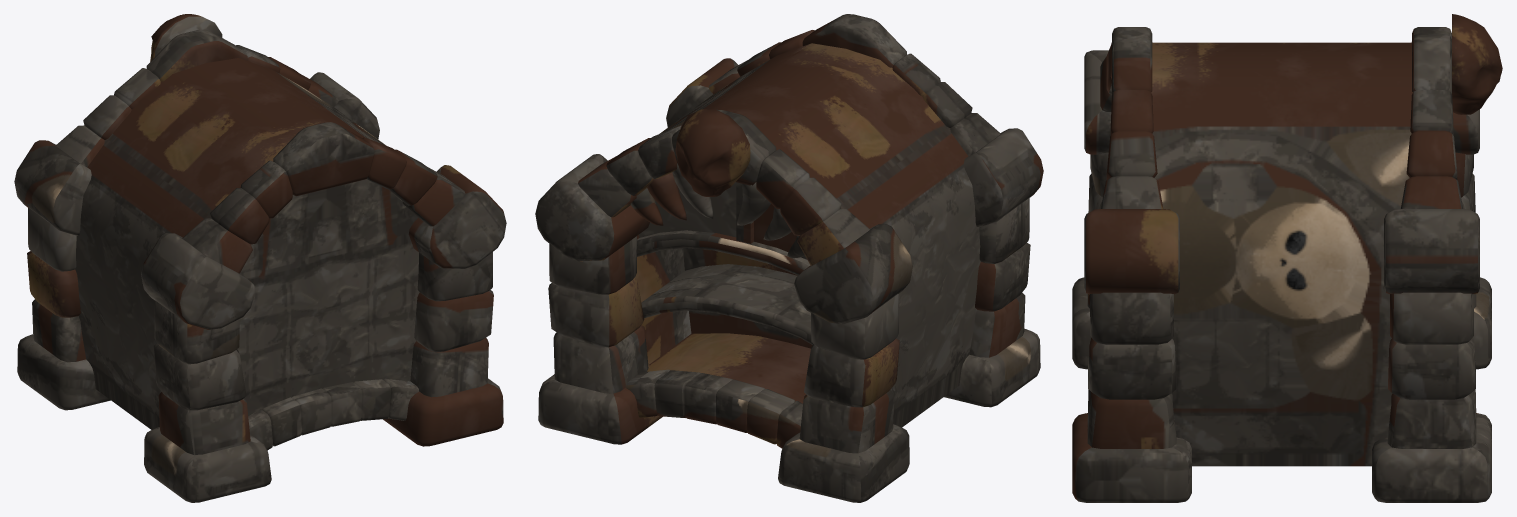
Rendered from SM_PRP_SkullBookShelf.fbx.
The picture shows the model from 3 angles, left to right: view 1: azimuth 30°, elevation 25°; view 2: azimuth 150°, elevation 25°; view 3: azimuth 270°, elevation 25°; orthographic projection. The views are drawn at different scales.
Visible parts, largest first — view 1: m_Bookshelf_low, m_Sides_low; view 2: m_Bookshelf_low, m_Sides_low; view 3: m_Sides_low, m_Bookshelf_low.
Boxes of the visible parts, x1,y1,x2,y2 form: m_Bookshelf_low: [14, 14, 506, 502]; m_Sides_low: [75, 58, 385, 429]; m_Bookshelf_low: [535, 14, 1043, 502]; m_Sides_low: [635, 43, 980, 427]; m_Sides_low: [1151, 42, 1412, 466]; m_Bookshelf_low: [1072, 14, 1502, 502].
Size of the model in its own units: 537 by 521 by 513.
